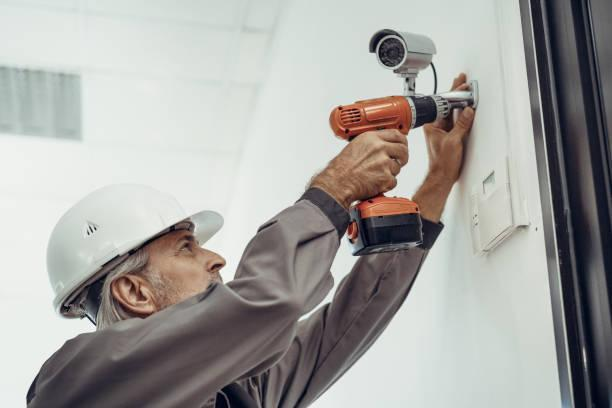camera: (339, 17, 451, 83)
